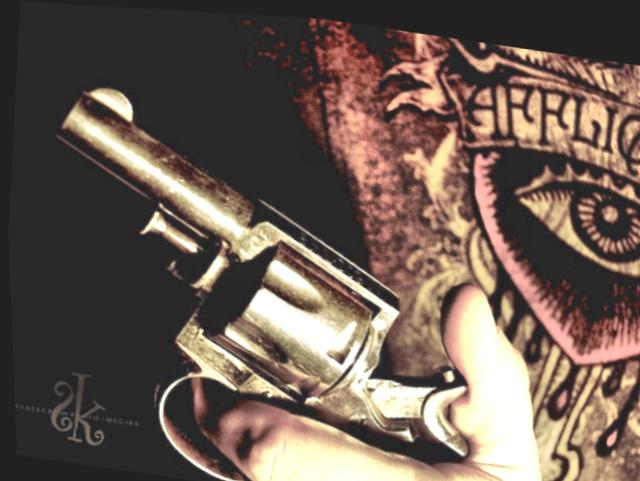pistol: (20, 65, 492, 481)
